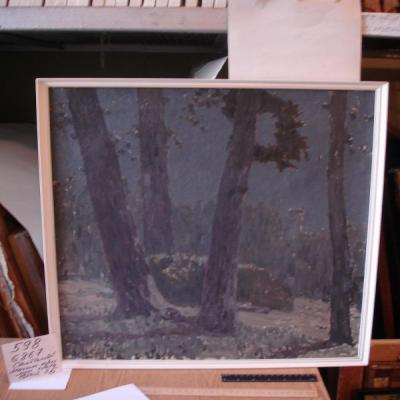painting: (36, 78, 390, 369)
